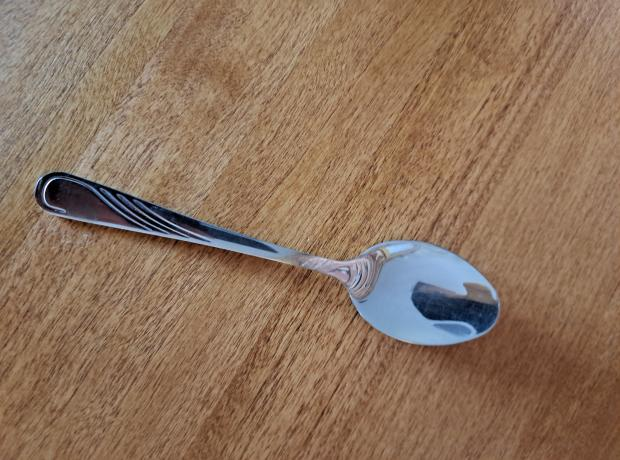metal: (35, 170, 502, 348)
